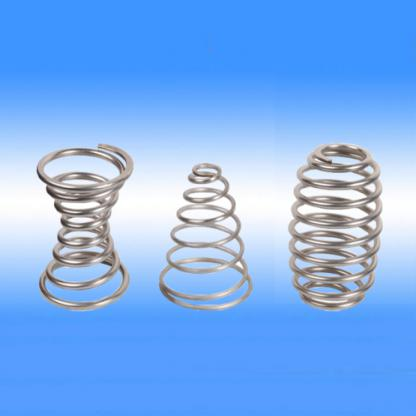FOD: (35, 139, 134, 315), (288, 138, 386, 313), (156, 162, 256, 313)
